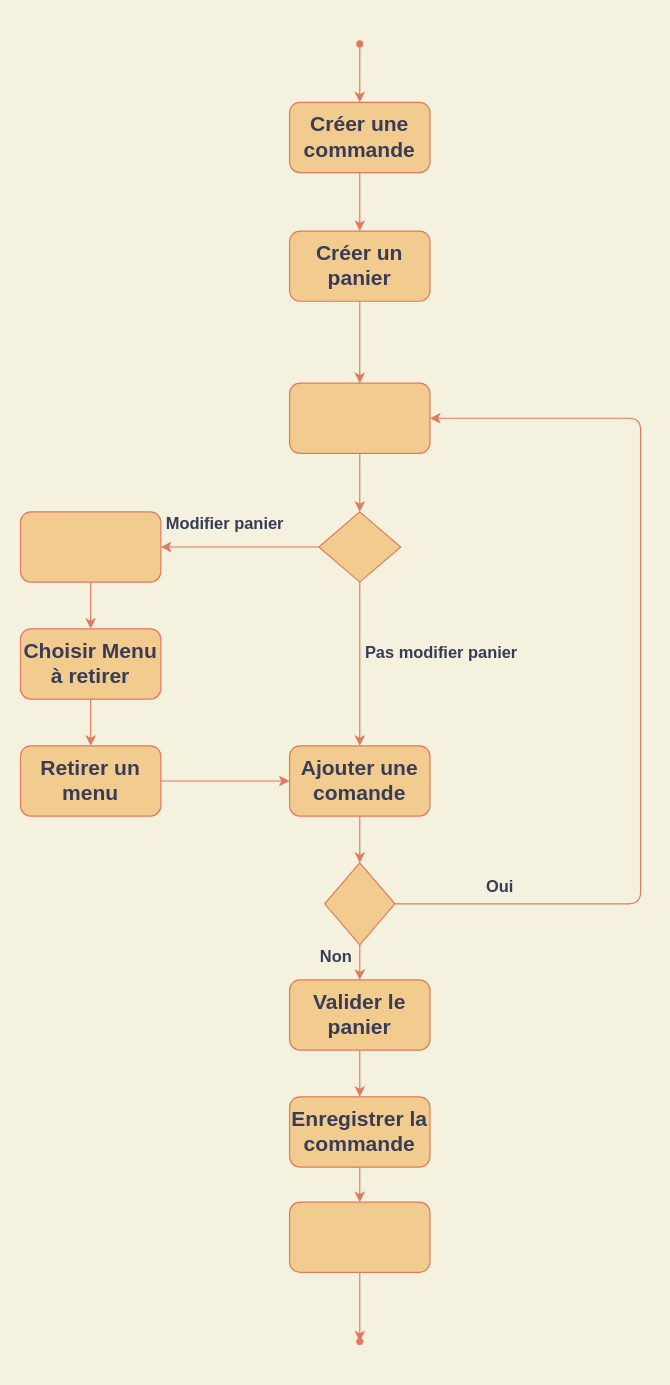
Image size: 670x1385. Some labels were removed from this diagram. Here are the shapes that lost their labels. From the top down, the box of each, then its label:
(288, 382, 430, 453): Ajouter un menu
(19, 511, 161, 582): Ouvrir le panier
(288, 1201, 430, 1272): Donnez les avis
